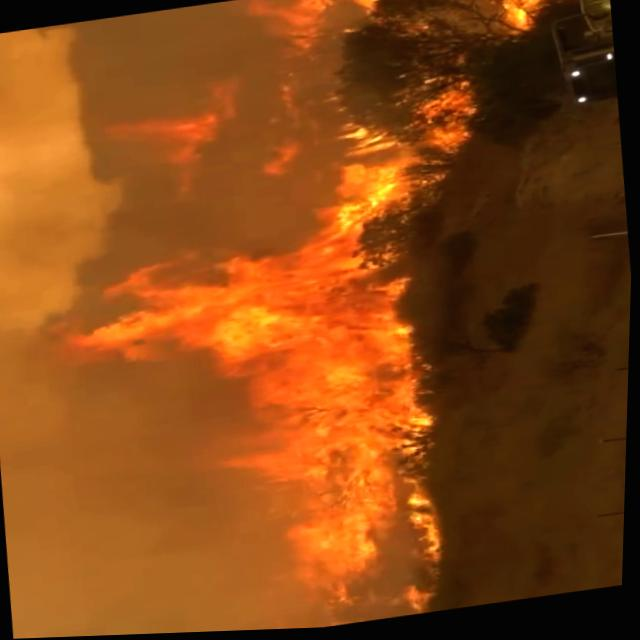fire: (56, 165, 470, 599), (334, 92, 505, 217), (222, 0, 495, 49), (464, 0, 577, 38), (346, 588, 454, 627)
smoke: (0, 46, 84, 123)
